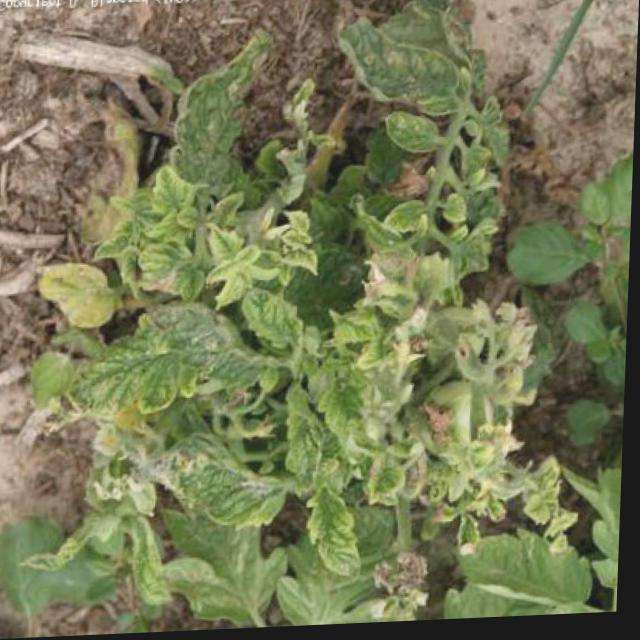Tomato healthy leaf: (59, 321, 214, 418), (180, 422, 297, 530), (171, 36, 260, 157), (314, 358, 386, 450), (240, 287, 314, 355), (315, 482, 366, 579), (378, 100, 454, 162), (148, 159, 206, 224), (332, 301, 396, 341), (381, 199, 438, 236), (211, 224, 243, 266), (444, 196, 478, 234)
